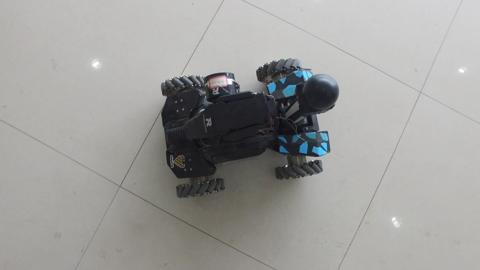chariot: (141, 55, 345, 202)
